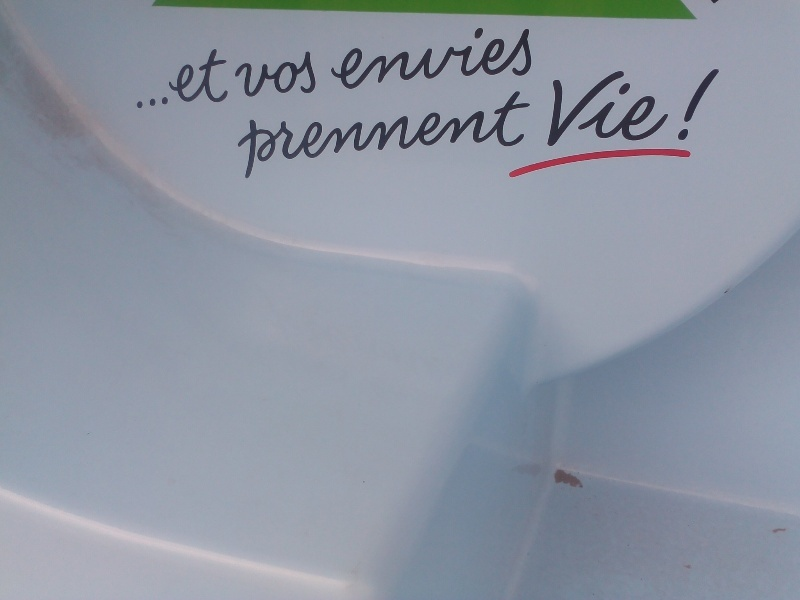text: (241, 87, 256, 181), (257, 87, 272, 181), (273, 87, 288, 181), (289, 87, 304, 181), (305, 87, 320, 181), (321, 87, 336, 181), (337, 87, 352, 181), (353, 87, 368, 181), (369, 87, 384, 181), (385, 87, 400, 181), (401, 87, 416, 181), (417, 87, 432, 181), (433, 87, 448, 181), (449, 87, 464, 181), (465, 87, 480, 181), (481, 87, 496, 181), (497, 87, 512, 181), (513, 87, 528, 181), (561, 66, 576, 148), (577, 66, 592, 148), (593, 66, 608, 148), (609, 66, 624, 148), (625, 66, 640, 148), (641, 66, 656, 148), (657, 66, 672, 148), (673, 66, 688, 148), (705, 67, 721, 142), (689, 67, 704, 142), (337, 20, 352, 92), (353, 20, 368, 92), (369, 20, 384, 92), (385, 20, 400, 92), (401, 20, 416, 92), (417, 20, 432, 92), (433, 20, 448, 92), (449, 20, 464, 92), (465, 20, 480, 92), (481, 20, 496, 92), (497, 20, 512, 92), (513, 20, 528, 92), (145, 45, 160, 110), (161, 45, 176, 110), (177, 45, 192, 110), (193, 45, 208, 110), (209, 45, 224, 110), (676, 67, 688, 142), (551, 66, 560, 148), (241, 49, 256, 98), (257, 49, 272, 98), (273, 49, 288, 98), (289, 49, 304, 98), (305, 49, 319, 98), (136, 45, 144, 110), (329, 20, 336, 92), (225, 45, 231, 110), (529, 87, 533, 181), (529, 20, 534, 92), (689, 66, 693, 148), (234, 49, 240, 98)
